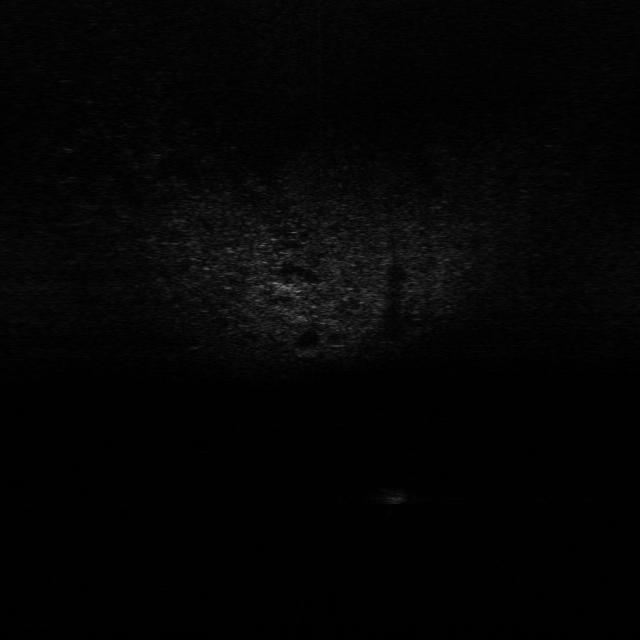cylinder: (384, 488, 408, 506)
